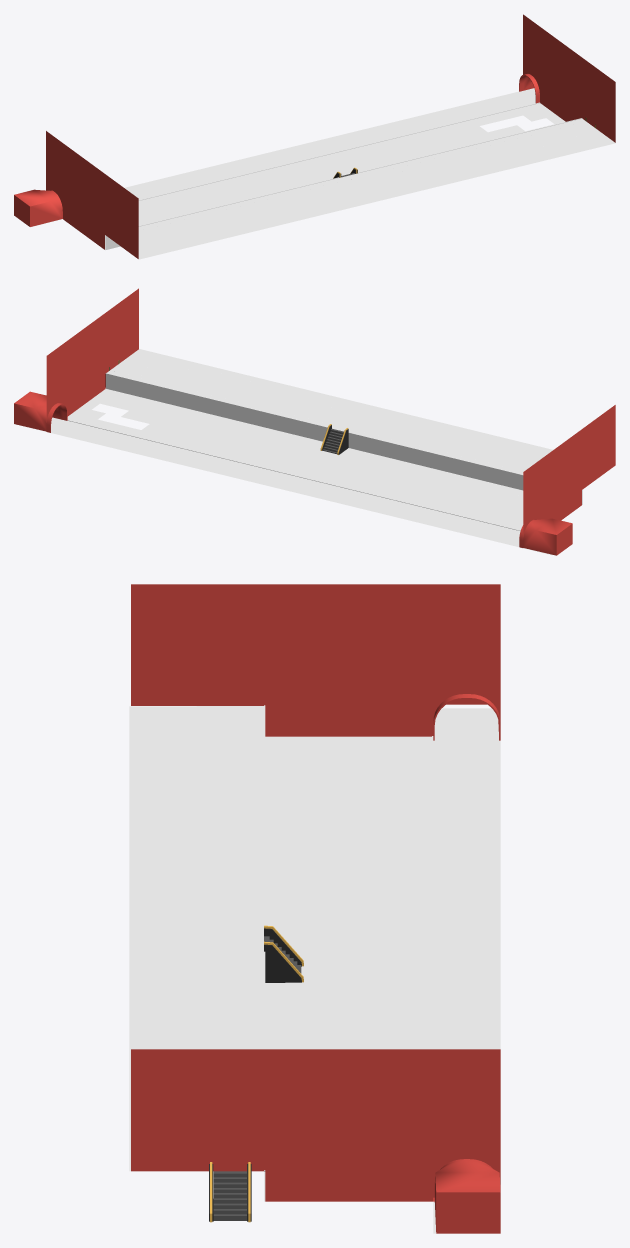
The model's file is Roads.fbx.
The picture shows the model from 3 angles, top to bottom: view 1: azimuth 30°, elevation 25°; view 2: azimuth 150°, elevation 25°; view 3: azimuth 270°, elevation 25°; orthographic projection. The views are drawn at different scales.
Visible parts, largest first — view 1: Siadewalk_no_Panel.291, Road_M.071, BrickWallLight_Window_V1_1.265, BrickWallLight_Window_V1_1.264, BrickWallLight_Window_V1_1.271, BrickWallLight_Window_V1_1.274; view 2: Siadewalk_no_Panel.291, Road_M.071, BrickWallLight_Window_V1_1.264, BrickWallLight_Window_V1_1.265, BrickWallLight_Window_V1_1.271, BrickWallLight_Window_V1_1.274, Stairs.006; view 3: Siadewalk_no_Panel.291, BrickWallLight_Window_V1_1.264, BrickWallLight_Window_V1_1.265, Road_M.071, BrickWallLight_Window_V1_1.274, BrickWallLight_Window_V1_1.271, Stairs, Stairs.006.
Boxes of the visible parts, x1,y1,x2,y2 form: Siadewalk_no_Panel.291: (105,103,615,259); Road_M.071: (45,88,535,223); BrickWallLight_Window_V1_1.265: (46,131,138,258); BrickWallLight_Window_V1_1.264: (523,14,615,142); BrickWallLight_Window_V1_1.271: (14,176,62,226); BrickWallLight_Window_V1_1.274: (519,60,539,103); Siadewalk_no_Panel.291: (67,349,582,530); Road_M.071: (24,417,552,555); BrickWallLight_Window_V1_1.264: (46,288,138,416); BrickWallLight_Window_V1_1.265: (523,405,615,520); BrickWallLight_Window_V1_1.271: (519,506,572,555); BrickWallLight_Window_V1_1.274: (14,389,67,432); Stairs.006: (320,424,348,454); Siadewalk_no_Panel.291: (129,705,431,1201); BrickWallLight_Window_V1_1.264: (131,1049,500,1201); BrickWallLight_Window_V1_1.265: (131,584,500,736); Road_M.071: (433,708,500,1233); BrickWallLight_Window_V1_1.274: (433,1140,500,1233); BrickWallLight_Window_V1_1.271: (433,675,500,740); Stairs: (209,1162,251,1222); Stairs.006: (264,925,303,982).
Bounding box in the file's own units: 7450 × 1024 × 2209.
8 materials, 2 textured.
